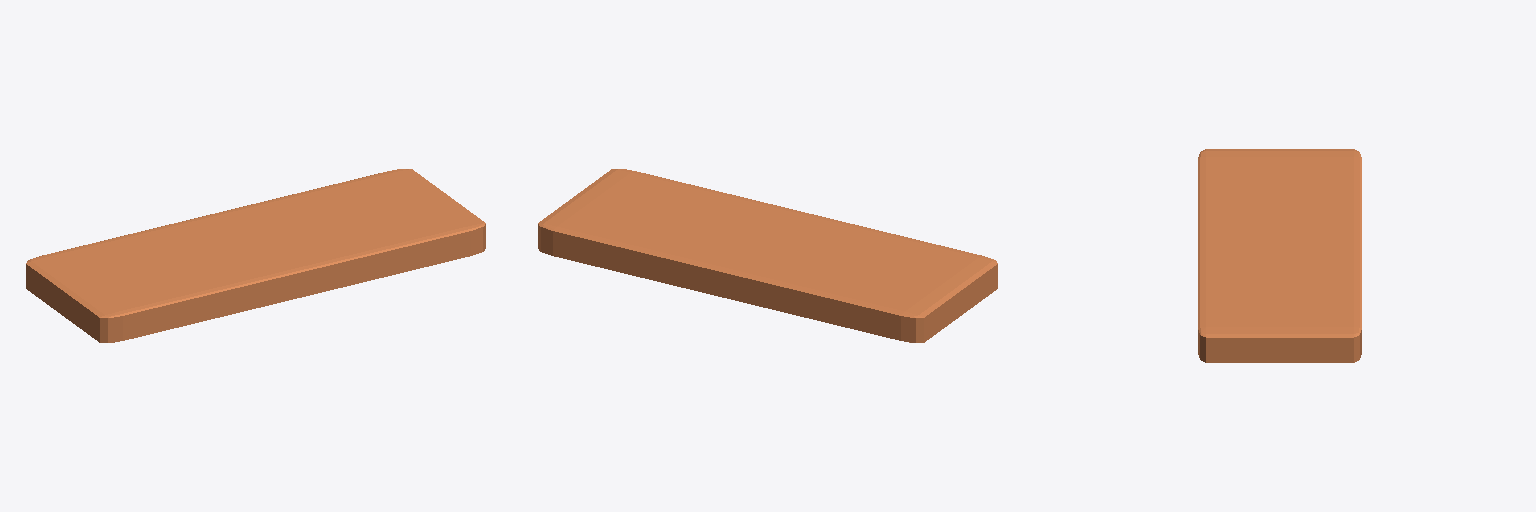
File: Wall_shelf.obj
The picture shows the model from 3 angles: view 1: azimuth 30°, elevation 25°; view 2: azimuth 150°, elevation 25°; view 3: azimuth 270°, elevation 25°; orthographic projection.
Parts seen in each view (by area): view 1: Wall_shelf_Cube.017; view 2: Wall_shelf_Cube.017; view 3: Wall_shelf_Cube.017.
Boxes of the visible parts, x1,y1,x2,y2 form: Wall_shelf_Cube.017: [26, 169, 485, 342]; Wall_shelf_Cube.017: [538, 169, 997, 342]; Wall_shelf_Cube.017: [1198, 149, 1361, 362].
Size of the model in its own units: 2.29 by 0.1581 by 0.8425.